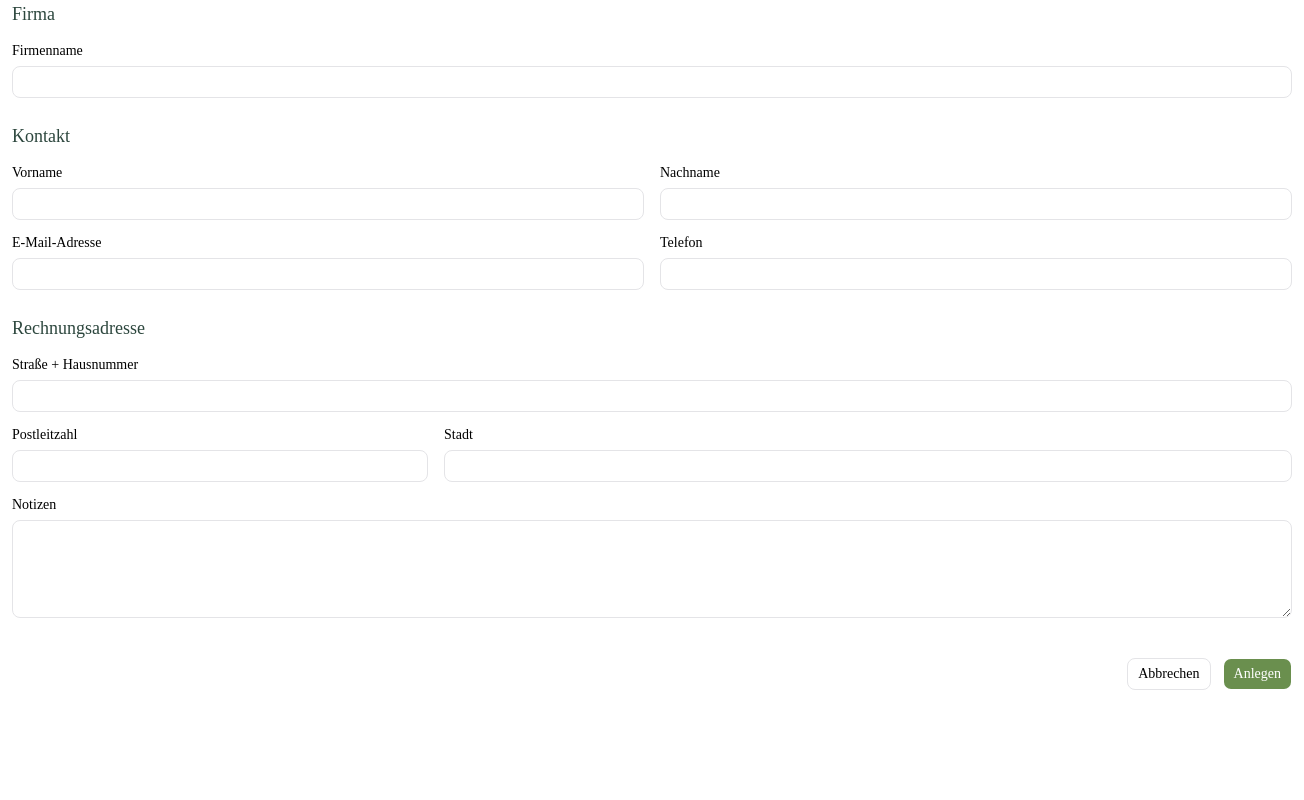
Test: CustomerForm — create mode › maps Server Action validation errors back onto the matching FormMessage entries
Type "Anna" into the field labelled "Vorname".
click(328, 204); type("Anna")  # box [12,188,644,220]
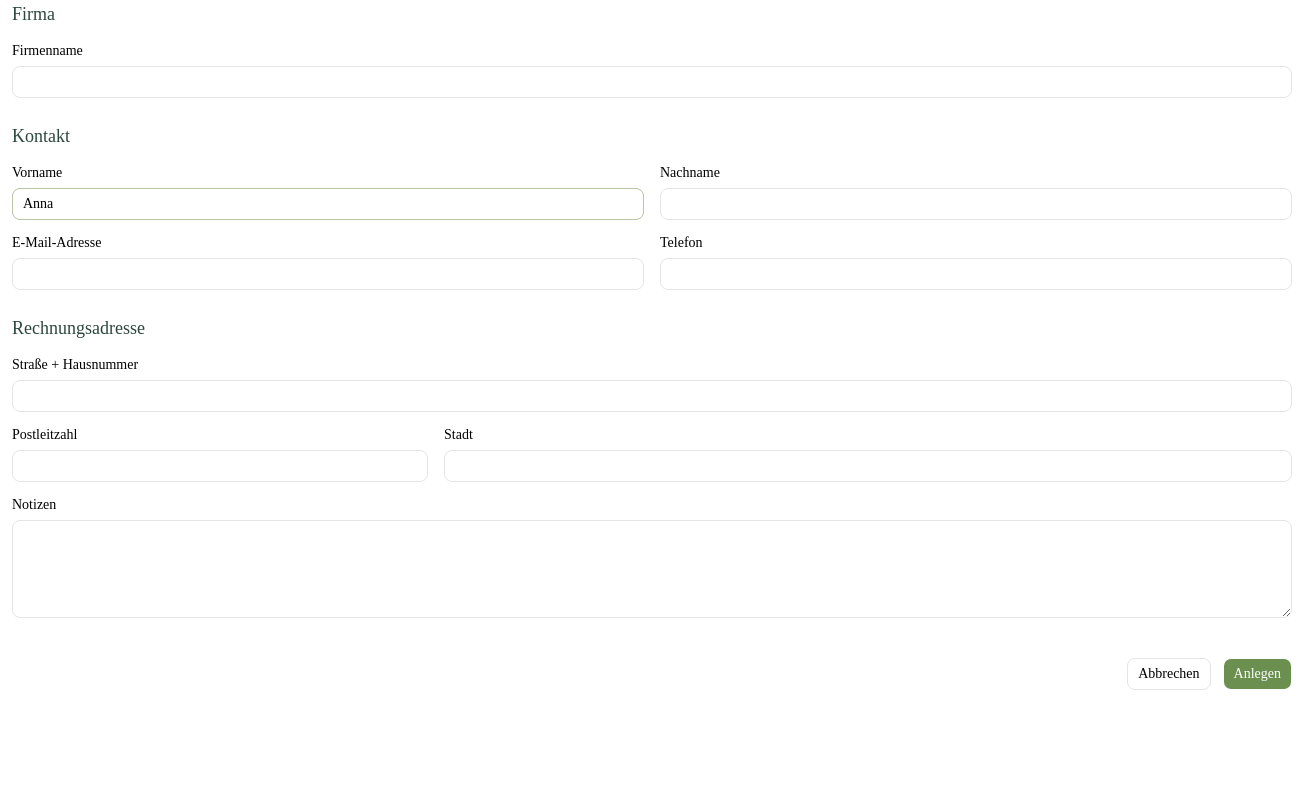
Type "Berger" into the field labelled "Nachname".
click(976, 204); type("Berger")  # box [660,188,1292,220]
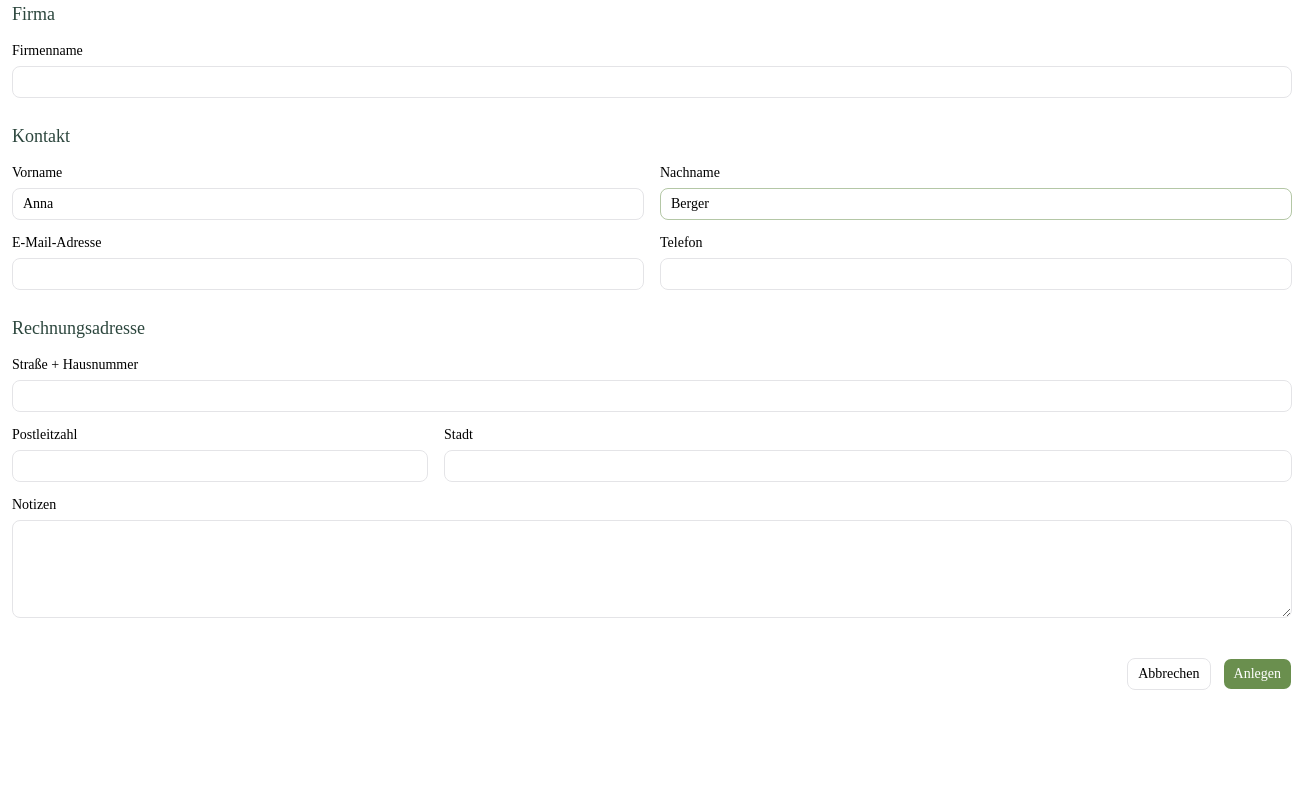
Click the button "Anlegen".
click(1257, 674)  # box [1223,658,1292,690]
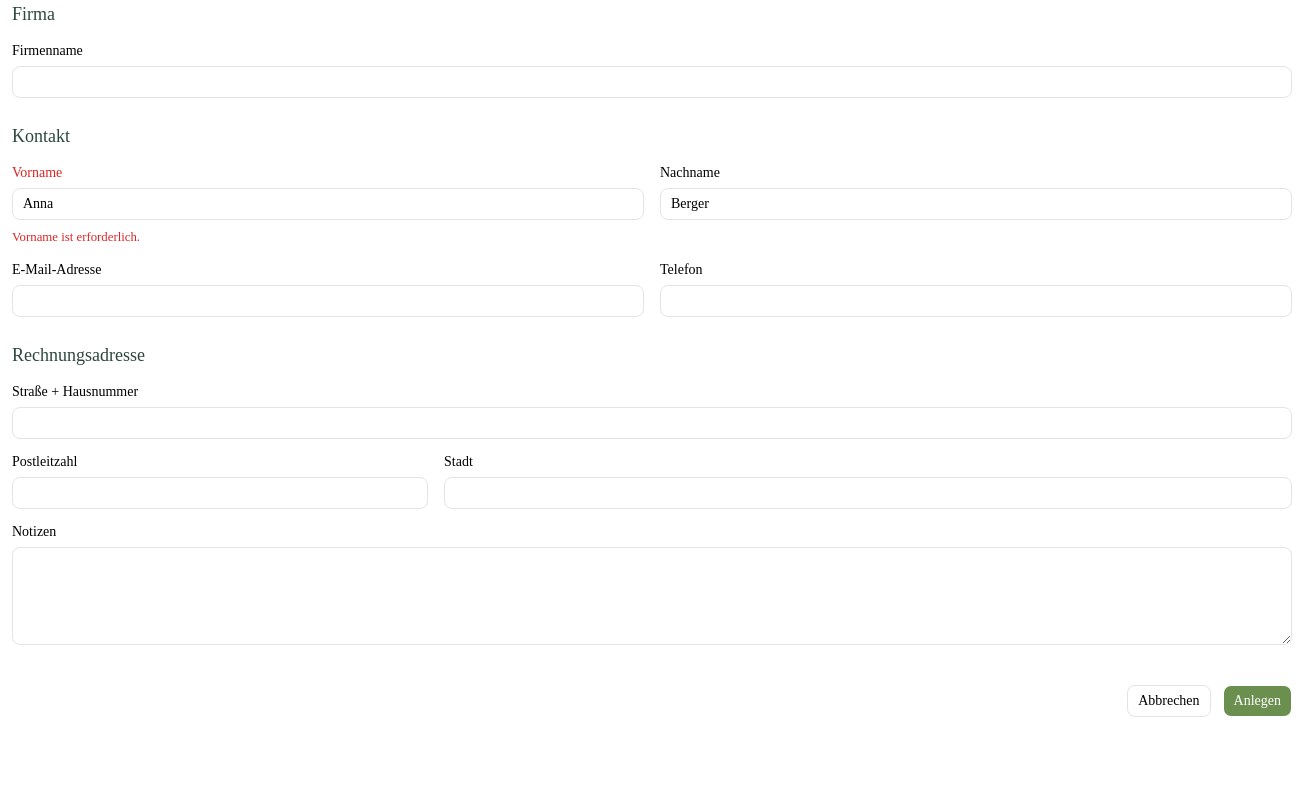
Check: the text "Vorname ist erforderlich." is shown, box [12,230,140,244]
